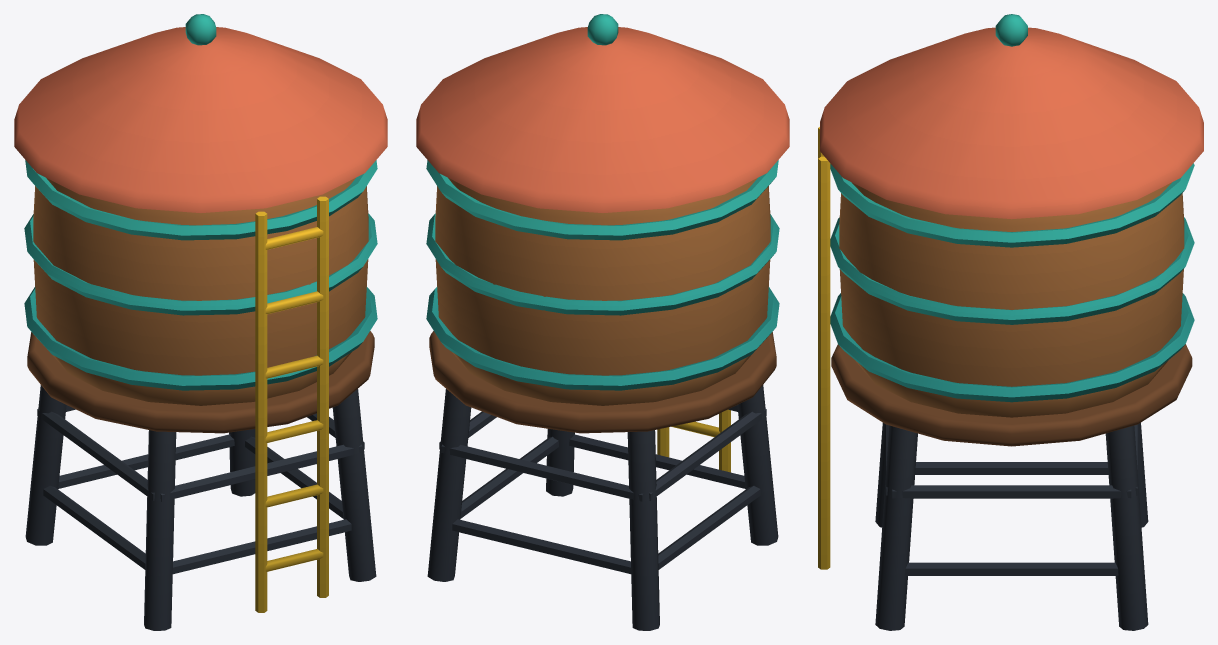
Rendered from roof-tank.glb.
3 renders of one model, left to right at view 1: azimuth 30°, elevation 25°; view 2: azimuth 150°, elevation 25°; view 3: azimuth 270°, elevation 25°, orthographic. The views are drawn at different scales.
Parts seen in each view (by area): view 1: roof-tank Terracotta, roof-tank Warm wood, roof-tank Gunmetal, roof-tank Teal, roof-tank Sunflower, roof-tank Dark wood; view 2: roof-tank Terracotta, roof-tank Warm wood, roof-tank Gunmetal, roof-tank Teal, roof-tank Dark wood, roof-tank Sunflower; view 3: roof-tank Terracotta, roof-tank Warm wood, roof-tank Gunmetal, roof-tank Teal, roof-tank Dark wood, roof-tank Sunflower.
Part boxes in pixels (box(x1,y1,x2,y2)): roof-tank Terracotta: box(14, 27, 387, 212); roof-tank Warm wood: box(33, 178, 368, 405); roof-tank Gunmetal: box(25, 385, 376, 630); roof-tank Teal: box(24, 14, 377, 390); roof-tank Sunflower: box(255, 196, 328, 612); roof-tank Dark wood: box(27, 331, 374, 433); roof-tank Terracotta: box(416, 27, 789, 212); roof-tank Warm wood: box(435, 178, 770, 405); roof-tank Gunmetal: box(427, 385, 778, 630); roof-tank Teal: box(426, 14, 779, 390); roof-tank Dark wood: box(429, 331, 776, 433); roof-tank Sunflower: box(657, 409, 730, 472); roof-tank Terracotta: box(820, 27, 1203, 219); roof-tank Warm wood: box(839, 182, 1184, 417); roof-tank Gunmetal: box(875, 422, 1148, 630); roof-tank Teal: box(830, 14, 1194, 402); roof-tank Dark wood: box(831, 344, 1192, 446); roof-tank Sunflower: box(818, 127, 830, 569).
Bounding box in the file's own units: 1.6 × 2.54 × 1.58.
6 materials, 6 textured.
